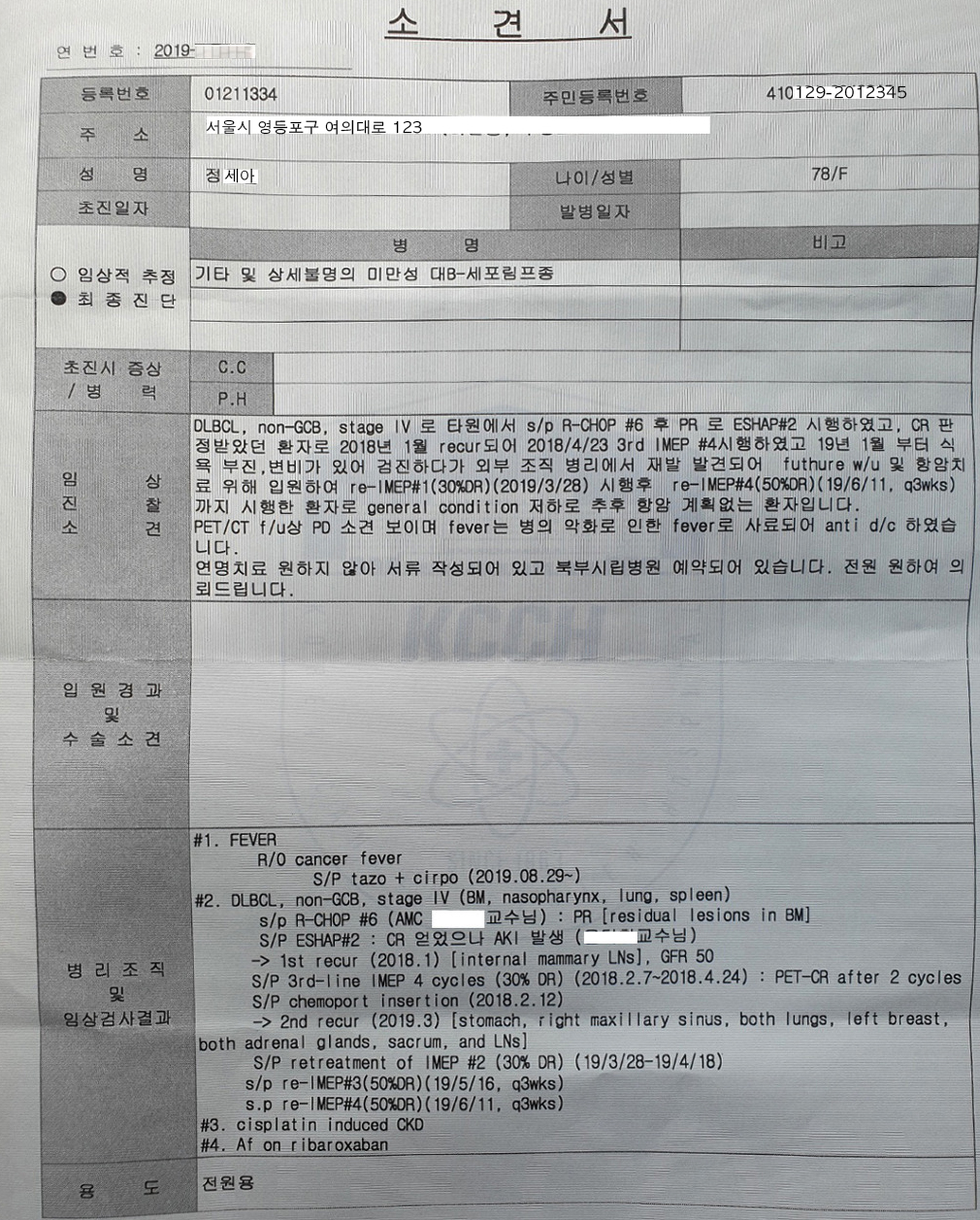row: (30, 828, 974, 1157), (30, 598, 972, 825), (29, 411, 970, 599), (33, 228, 976, 327), (32, 350, 972, 415), (29, 1158, 979, 1211), (39, 110, 980, 160), (32, 190, 512, 231), (36, 158, 510, 198), (39, 77, 508, 112), (510, 77, 976, 111), (510, 161, 980, 193), (511, 198, 980, 223)
